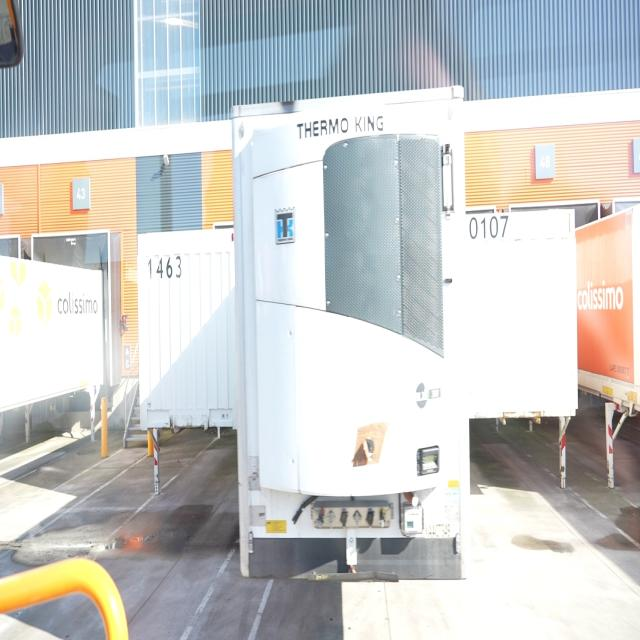Code: (468, 210, 512, 242), (144, 250, 188, 280)
